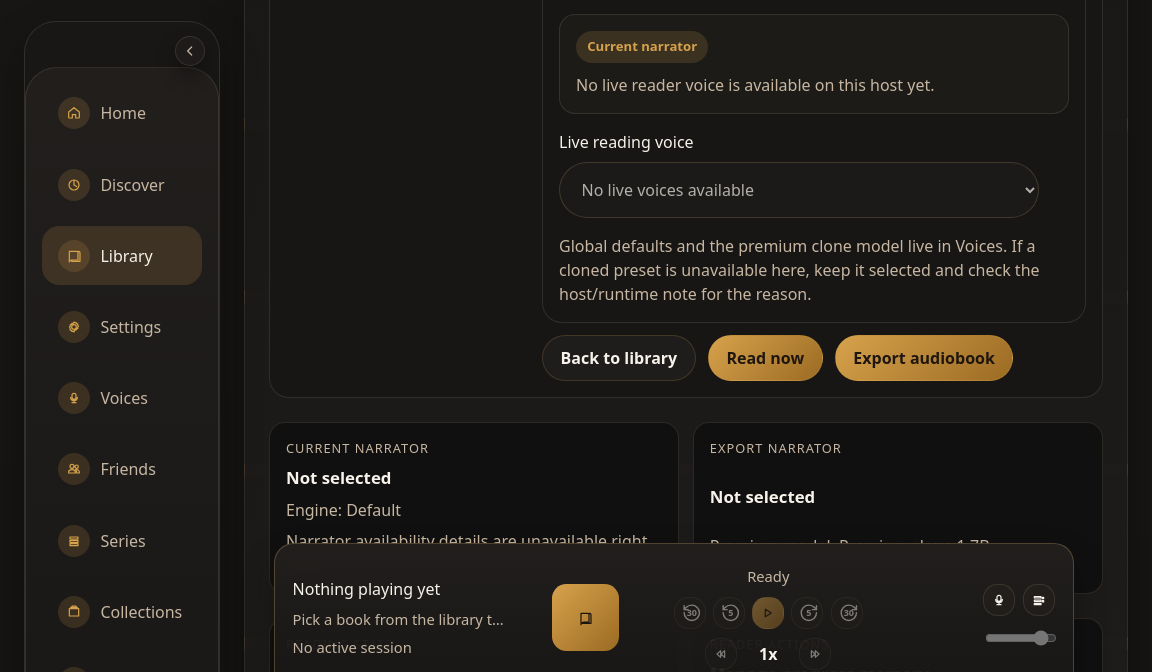
BookPage › queues an audiobook export from the dedicated book detail route
(page scrolled)
Click the button "Export audiobook". click: (924, 358)
box: [835,335,1014,381]
(page scrolled)
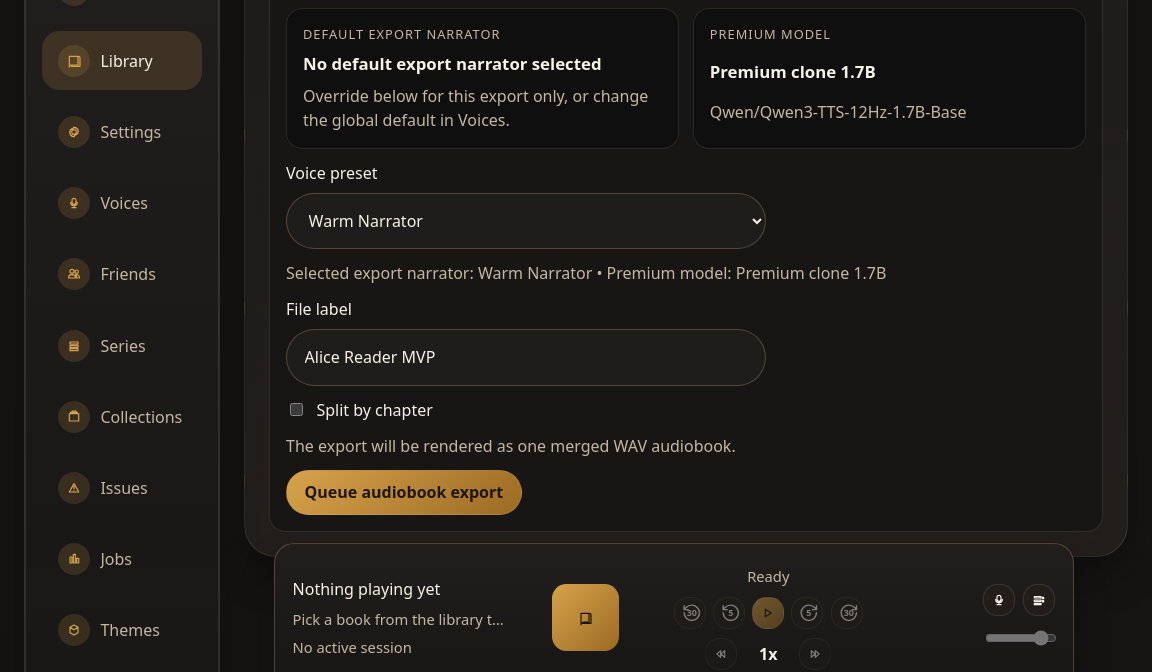
expect the dropdown labelled "Voice preset" shows "Warm Narrator": met, box [286,193,766,249]
expect the field labelled "File label" holds "Alice Reader MVP": met
Replace the text in the field labelled "File label" with "Alice Nightly". click: (526, 357)
box: [286,329,766,386]
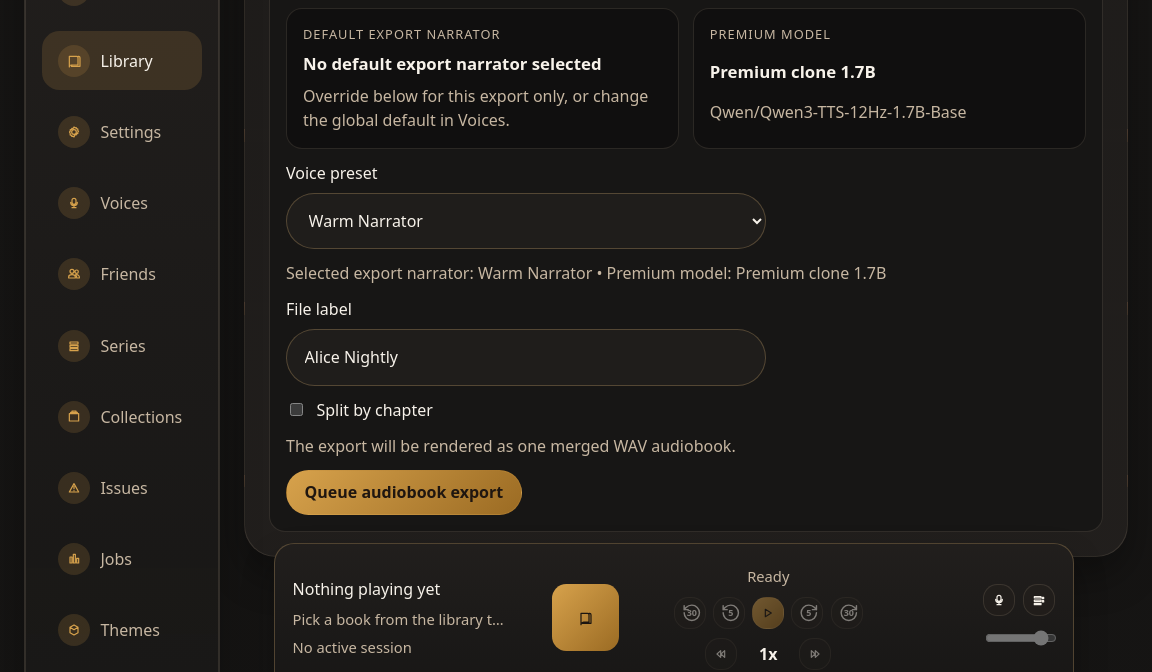
Click the checkbox labelled "Split by chapter". click: (296, 410)
box: [290,403,303,416]
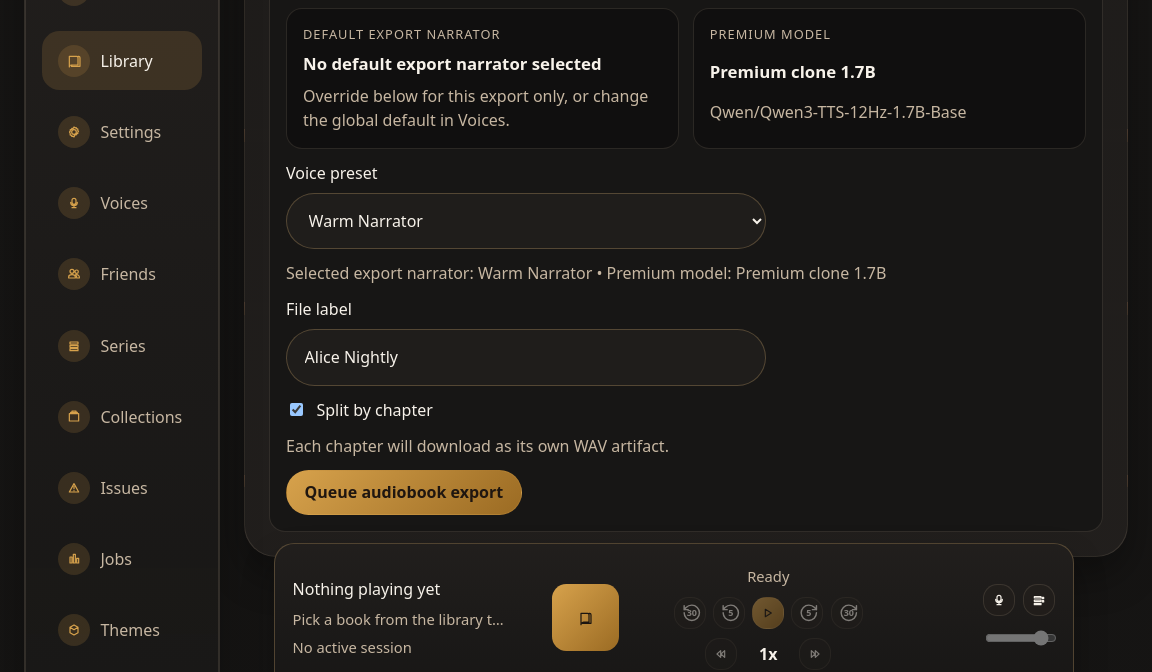
Click the button "Queue audiobook export". click: (404, 492)
box: [286,470,522,515]
(page scrolled)
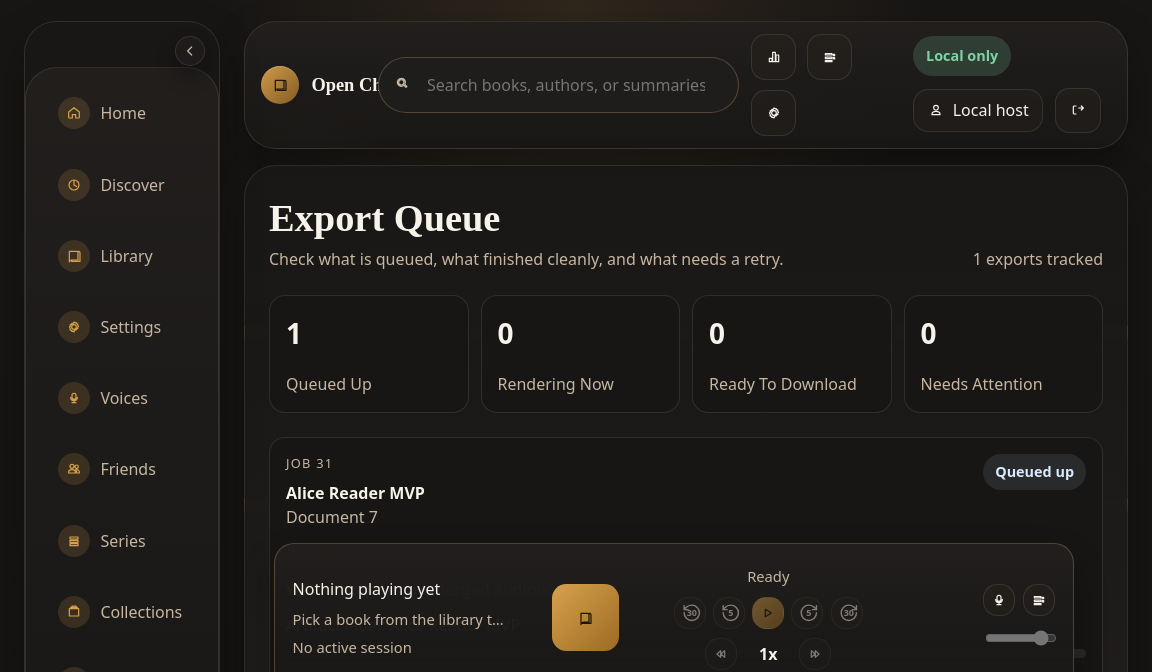
expect the heading "Export Queue" is shown: met, box [269,197,500,239]
